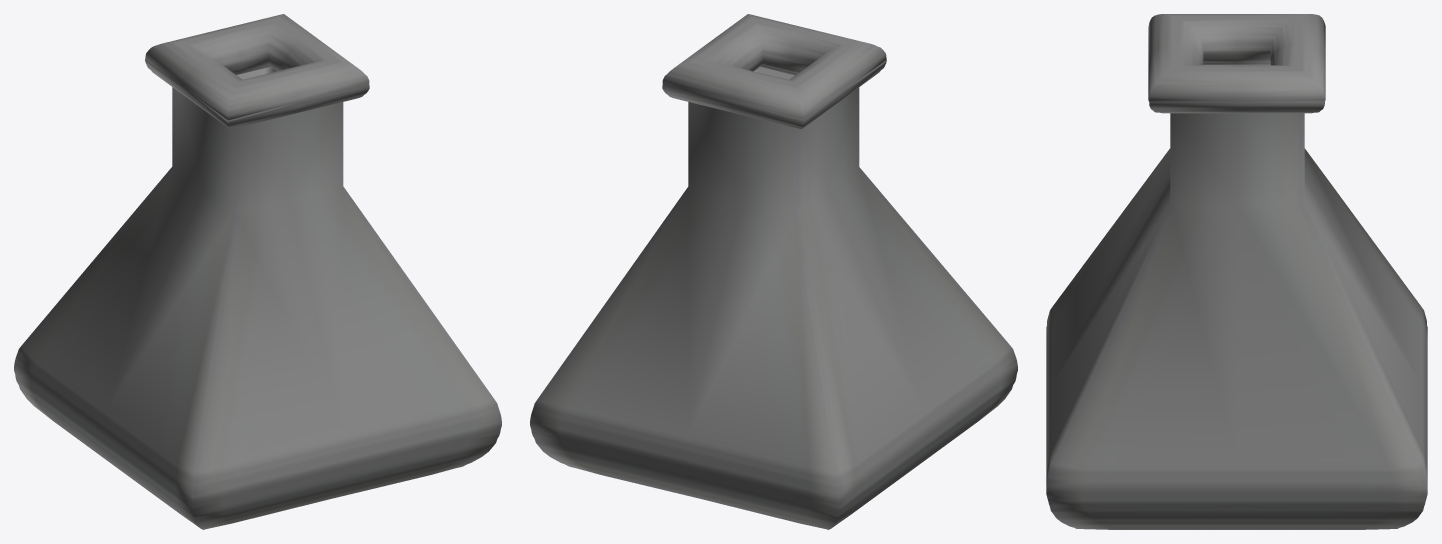
The model's file is icon-flask.glb.
3 renders of one model, left to right at view 1: azimuth 30°, elevation 25°; view 2: azimuth 150°, elevation 25°; view 3: azimuth 270°, elevation 25°, orthographic. The views are drawn at different scales.
Parts seen in each view (by area): view 1: tripo_node_kodyurd-model-42____________________; view 2: tripo_node_kodyurd-model-42____________________; view 3: tripo_node_kodyurd-model-42____________________.
Boxes of the visible parts, box(x1,y1,x2,y2) form: tripo_node_kodyurd-model-42____________________: box(14, 14, 501, 529); tripo_node_kodyurd-model-42____________________: box(530, 14, 1017, 529); tripo_node_kodyurd-model-42____________________: box(1046, 14, 1427, 529).
Size of the model in its own units: 0.8105 by 0.998 by 0.8105.
Materials: 1 (1 with a texture image).
